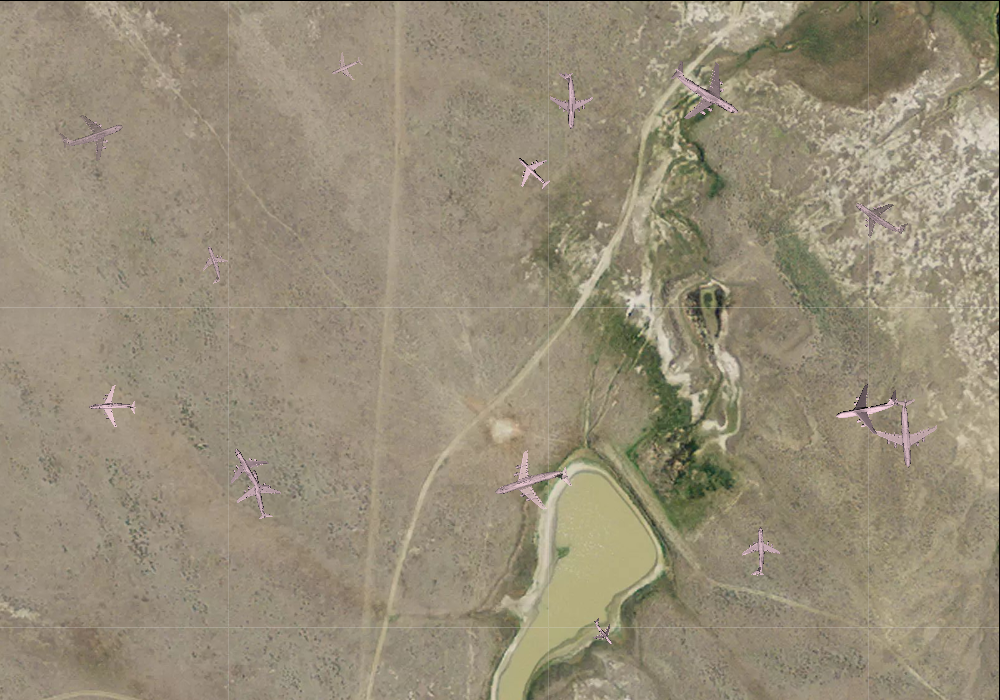plane: (654, 39, 757, 141), (484, 437, 580, 529), (51, 96, 131, 172), (843, 180, 918, 253), (871, 395, 942, 470), (830, 372, 905, 442), (215, 436, 282, 503), (230, 465, 288, 524), (542, 71, 595, 129), (506, 144, 560, 198), (735, 526, 782, 577), (88, 383, 136, 430), (190, 240, 235, 288), (325, 46, 367, 87), (584, 612, 622, 651)
